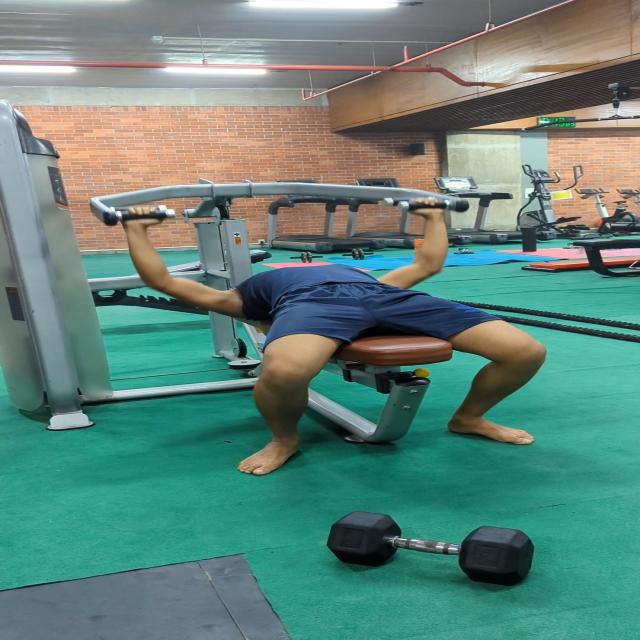Normal_BrenchPress: (108, 189, 572, 477)
